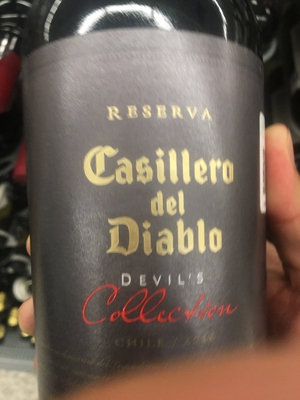casillero del diablo devils collection rojo: (18, 9, 274, 400)
